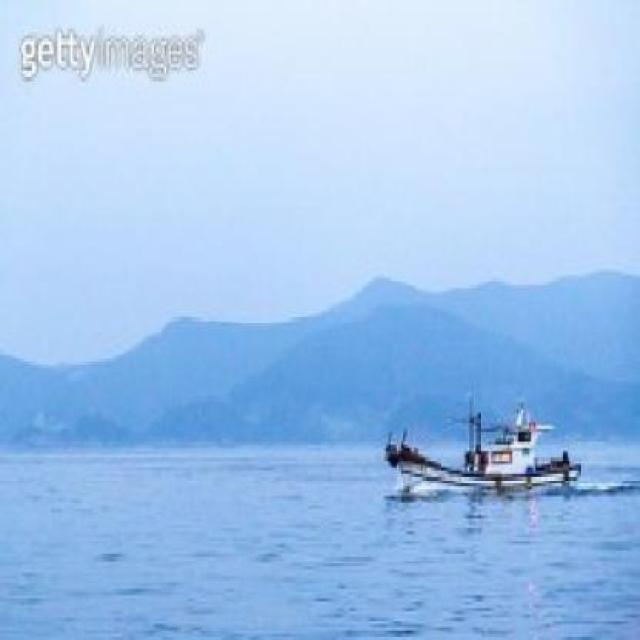fish-b: (391, 379, 589, 500)
